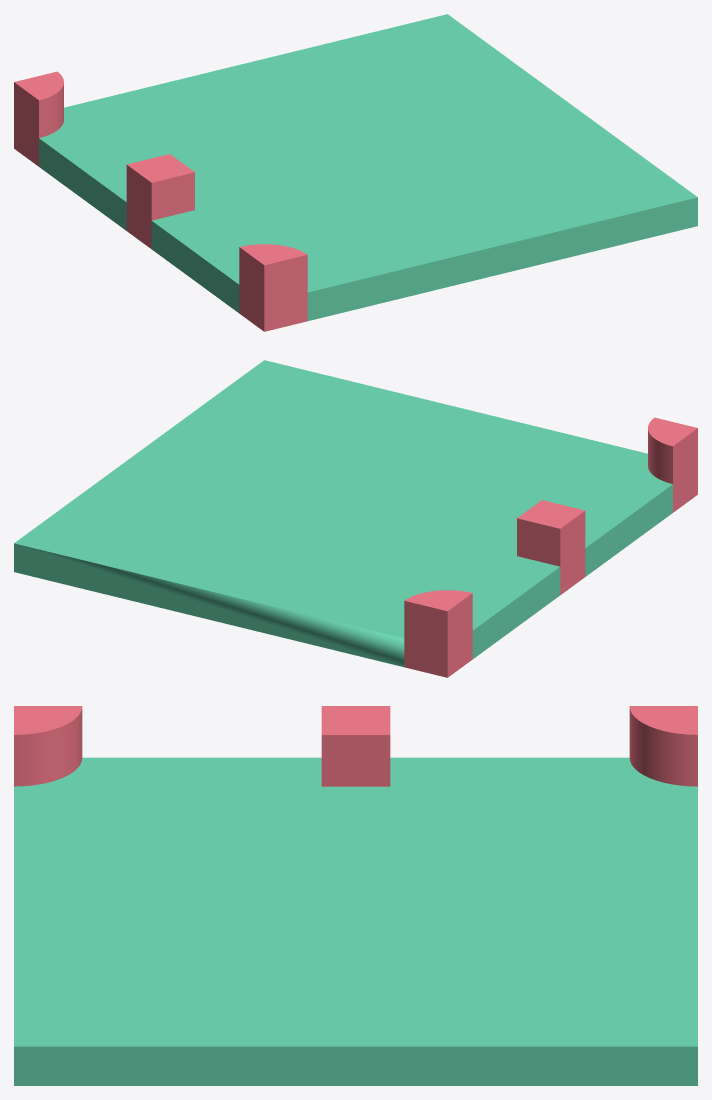
Rendered from SplitWallsToOpen.fbx.
The picture shows the model from 3 angles, top to bottom: view 1: azimuth 30°, elevation 25°; view 2: azimuth 150°, elevation 25°; view 3: azimuth 270°, elevation 25°; orthographic projection. The views are drawn at different scales.
Visible parts, largest first — view 1: Walls, splitWallsToOpen.001; view 2: Walls, splitWallsToOpen.001; view 3: Walls, splitWallsToOpen.001.
Part boxes in pixels (box(x1,y1,x2,y2)): Walls: box(39, 14, 697, 292); splitWallsToOpen.001: box(14, 71, 694, 331); Walls: box(14, 360, 666, 666); splitWallsToOpen.001: box(404, 417, 697, 677); Walls: box(14, 757, 697, 1085); splitWallsToOpen.001: box(14, 706, 697, 786).
Size of the model in its own units: 99.99 by 14.67 by 99.99.
